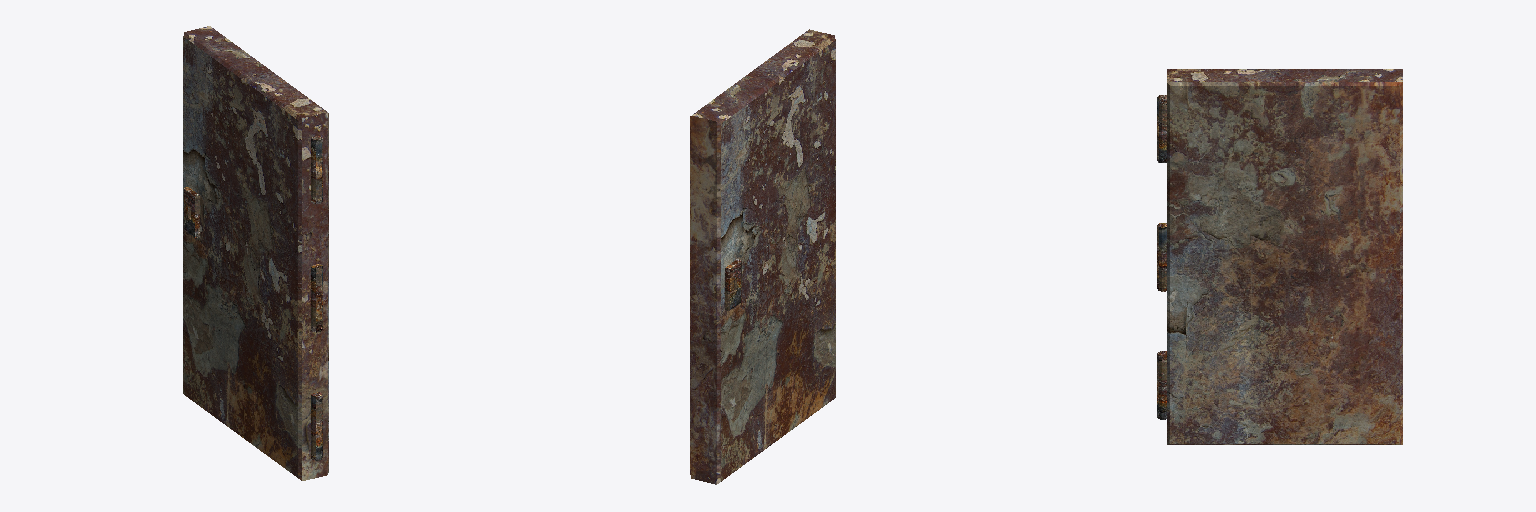
3 views of the same model, side by side, from view 1: azimuth 30°, elevation 25°; view 2: azimuth 150°, elevation 25°; view 3: azimuth 270°, elevation 25° (orthographic).
Visible parts, largest first — view 1: Door; view 2: Door; view 3: Door.
Part boxes in pixels (x1,y1,x2,y2): Door: (183,26,328,480); Door: (690,29,835,484); Door: (1157,69,1402,444).
Bounding box in the file's own units: 0.175 × 1.7 × 1.04.
Materials: 2 (2 with a texture image).